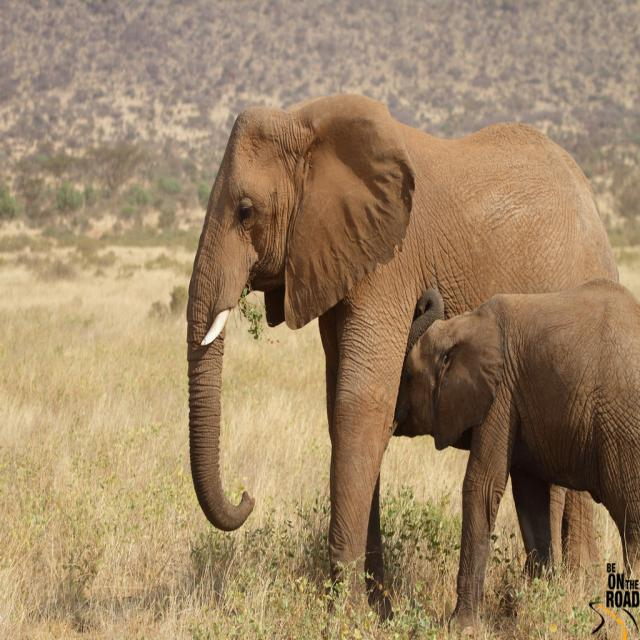elephant: (186, 88, 620, 625), (393, 296, 639, 631)
